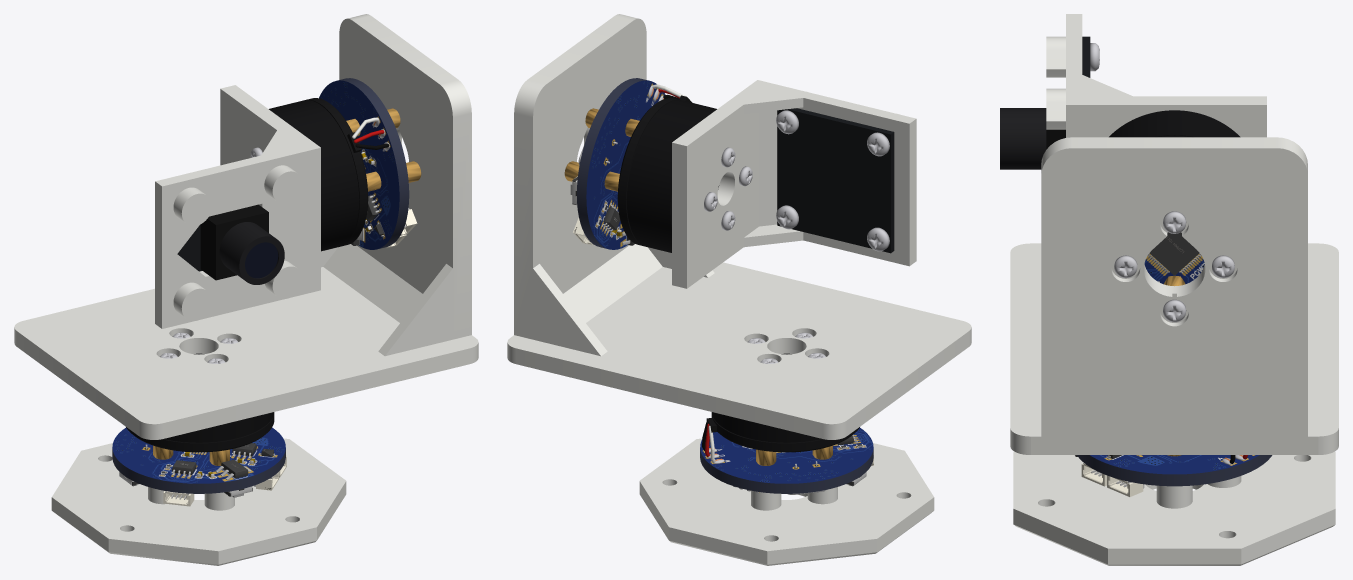
Rendered from gimbal_2axis.glb.
3 views of the same model, side by side, from view 1: azimuth 30°, elevation 25°; view 2: azimuth 150°, elevation 25°; view 3: azimuth 270°, elevation 25° (orthographic). The views are drawn at different scales.
Visible parts, largest first — view 1: print_frame, print_camera_bracket, print_base, tilt_module_rotor_motor_rotor, tilt_module_PCB_bottom, pan_module_PCB_bottom, camera_cam_holder, camera_lens_barrel, pan_module_PCB_edge, tilt_module_PCB_edge, tilt_module_motor_stator, pan_module_rotor_motor_rotor (+5 smaller); view 2: print_frame, print_camera_bracket, print_base, camera_cam_pcb, tilt_module_rotor_motor_rotor, tilt_module_PCB_bottom, pan_module_PCB_bottom, pan_module_PCB_edge, tilt_module_PCB_edge, camera_camera_screws, tilt_module_motor_stator, pan_module_rotor_motor_rotor (+2 smaller); view 3: print_frame, print_base, print_camera_bracket, camera_lens_barrel, tilt_module_rotor_motor_rotor, pan_module_PCB_edge, pan_module_PCB_bottom, frame_plate_screws, tilt_module_parts_mtl11, tilt_module_PCB_top, pan_module_parts_mtl23.
Part boxes in pixels (x1,y1,x2,y2): print_frame: [14, 14, 478, 439]; print_camera_bracket: [155, 85, 320, 328]; print_base: [51, 438, 346, 565]; tilt_module_rotor_motor_rotor: [269, 100, 358, 251]; tilt_module_PCB_bottom: [319, 80, 399, 249]; pan_module_PCB_bottom: [112, 427, 285, 483]; camera_cam_holder: [200, 204, 268, 280]; camera_lens_barrel: [219, 222, 284, 284]; pan_module_PCB_edge: [112, 448, 285, 493]; tilt_module_PCB_edge: [338, 78, 409, 248]; tilt_module_motor_stator: [306, 98, 368, 246]; pan_module_rotor_motor_rotor: [164, 353, 274, 442]; print_frame: [507, 14, 971, 439]; print_camera_bracket: [672, 80, 916, 288]; print_base: [639, 438, 934, 565]; camera_cam_pcb: [777, 108, 894, 253]; tilt_module_rotor_motor_rotor: [627, 100, 719, 252]; tilt_module_PCB_bottom: [586, 80, 665, 249]; pan_module_PCB_bottom: [700, 428, 873, 483]; pan_module_PCB_edge: [700, 448, 873, 493]; tilt_module_PCB_edge: [576, 78, 649, 248]; camera_camera_screws: [776, 110, 889, 251]; tilt_module_motor_stator: [617, 95, 692, 246]; pan_module_rotor_motor_rotor: [711, 353, 821, 442]; print_frame: [1010, 137, 1338, 454]; print_base: [1013, 451, 1335, 565]; print_camera_bracket: [1046, 14, 1266, 137]; camera_lens_barrel: [1000, 108, 1046, 169]; tilt_module_rotor_motor_rotor: [1109, 110, 1240, 137]; pan_module_PCB_edge: [1077, 455, 1272, 486]; pan_module_PCB_bottom: [1090, 455, 1259, 474]; frame_plate_screws: [1114, 211, 1234, 322]; tilt_module_parts_mtl11: [1149, 232, 1199, 274]; tilt_module_PCB_top: [1144, 254, 1204, 284]; pan_module_parts_mtl23: [1081, 463, 1143, 496].
Size of the model in its own units: 0.089 by 0.102 by 0.066.
Materials: 46 (2 with a texture image).
